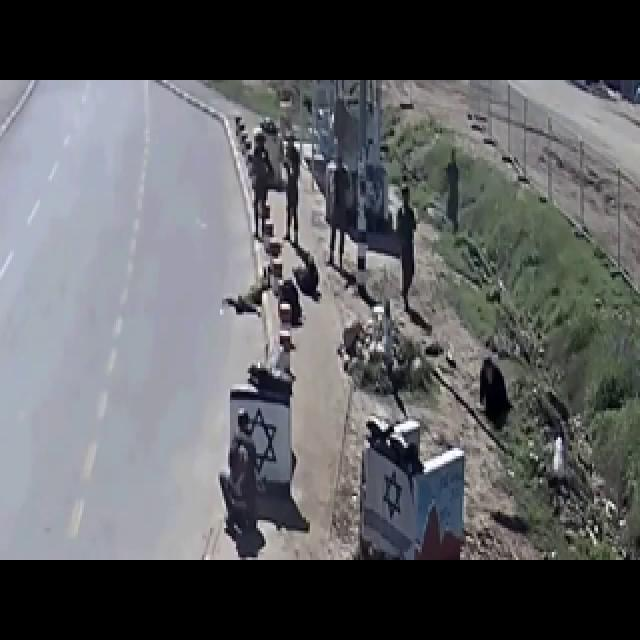shooting: (202, 91, 559, 600)
